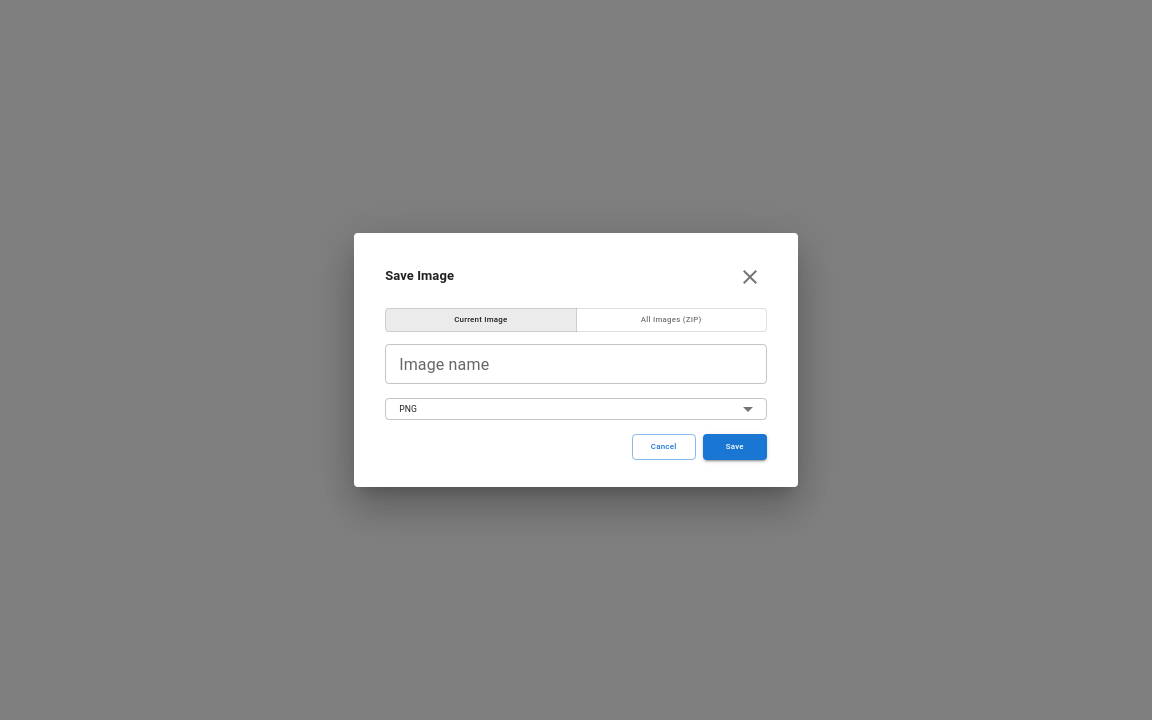
SaveDialog › close and cancel behavior › resets the label to empty when Cancel is clicked
Type "abc" into the field.
click(576, 364); type("abc")  # box x1=385 y1=344 x2=767 y2=384
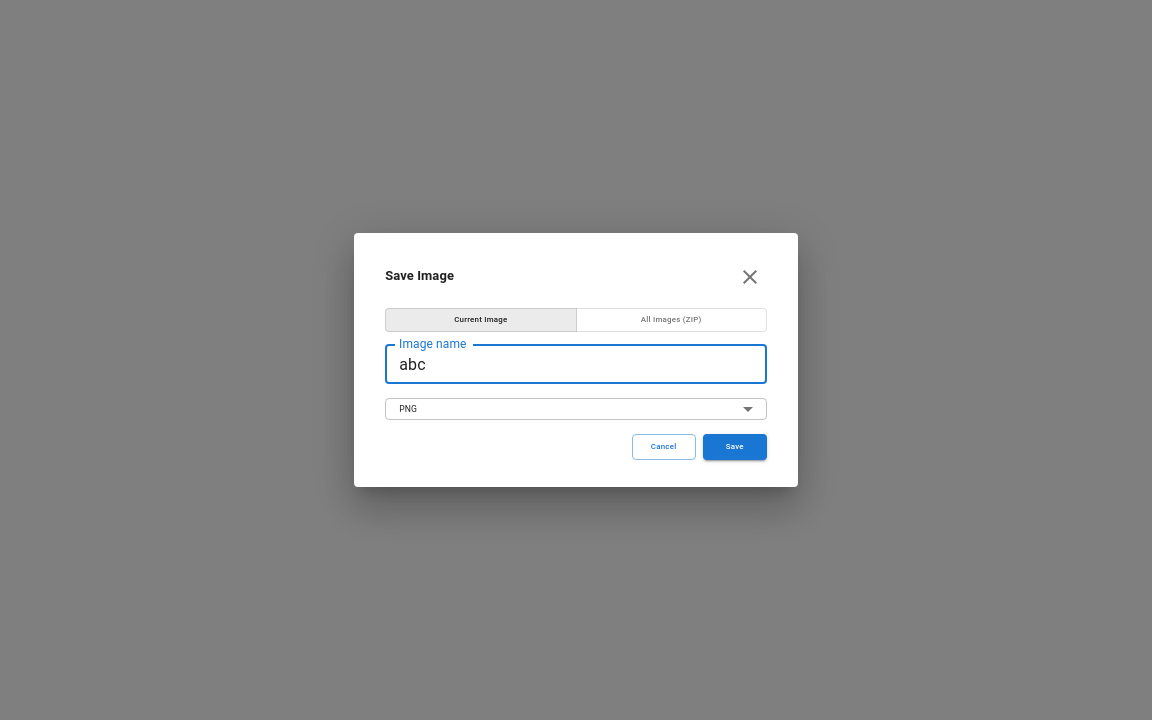
Click the button "Cancel".
click(664, 447)  # box x1=632 y1=434 x2=696 y2=460
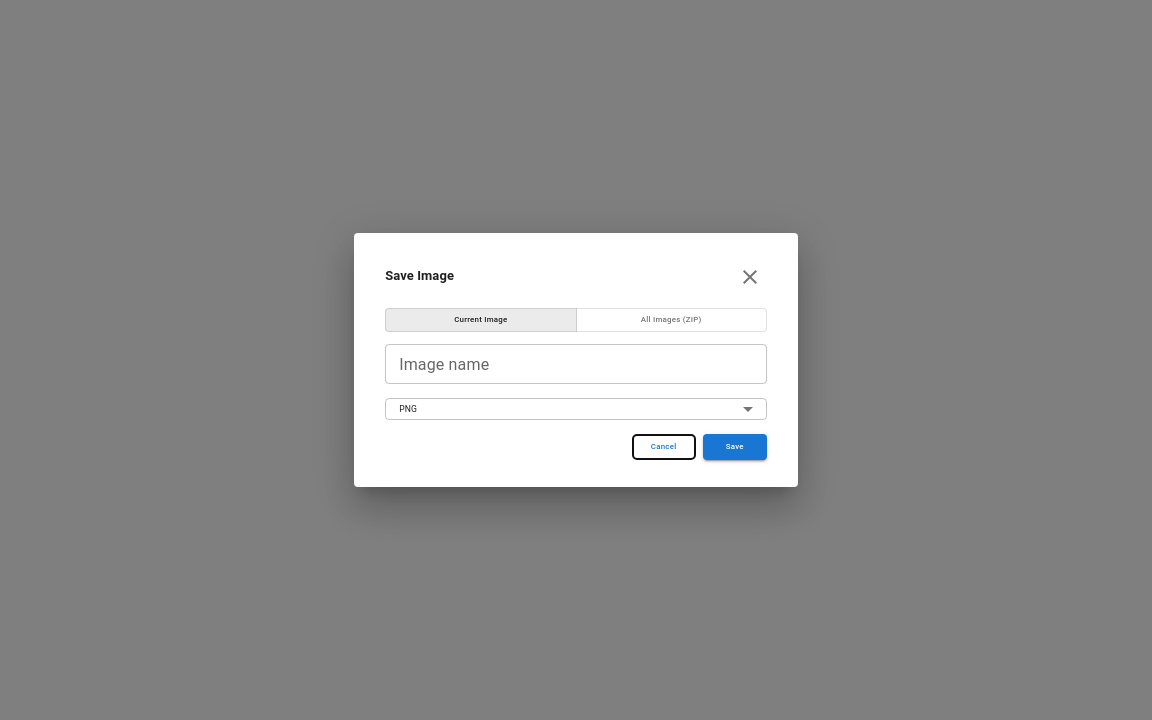
Result: the field is empty at x1=385 y1=344 x2=767 y2=384
